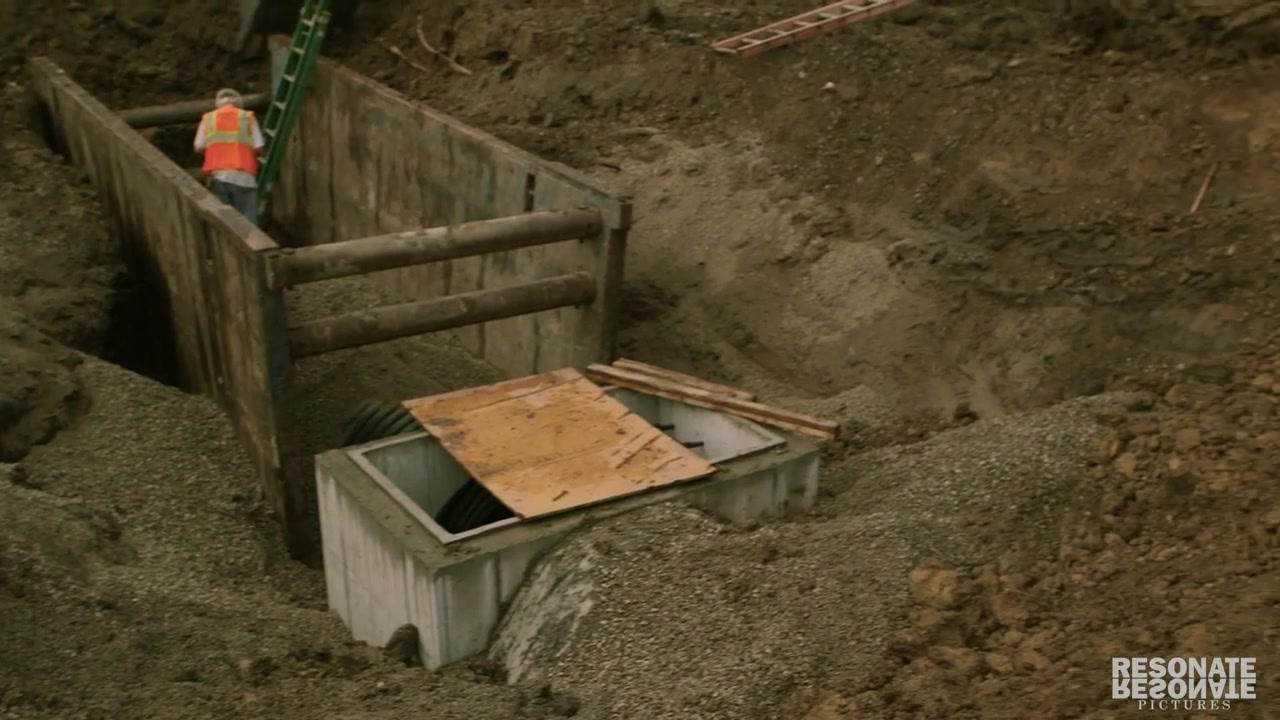vest: (201, 101, 261, 174)
